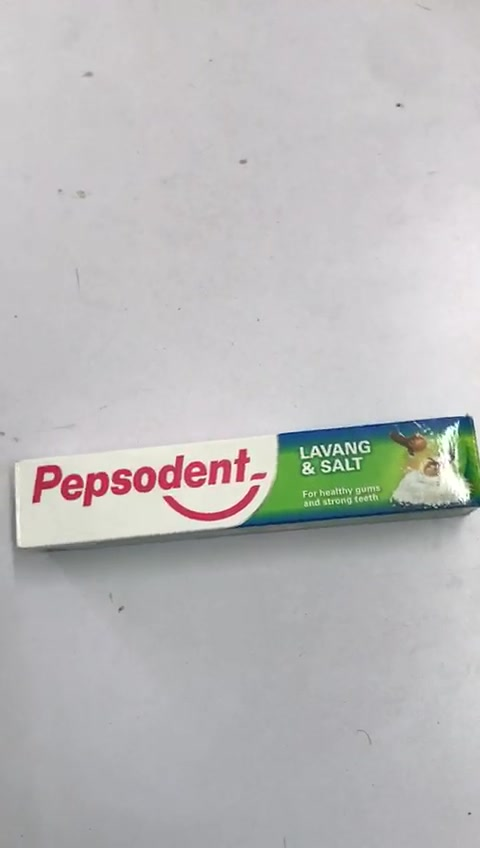pepsodent: (14, 417, 479, 548)
